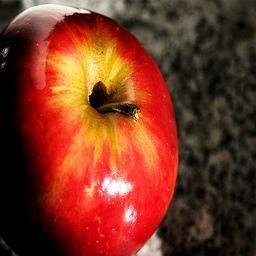apple: (0, 3, 179, 251)
